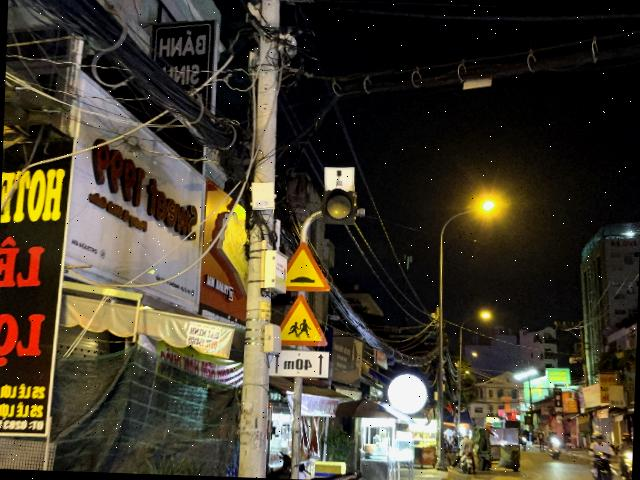duong-co-go-giam-toc: (286, 241, 334, 292)
tre-em-qua-duong: (280, 294, 330, 347)
